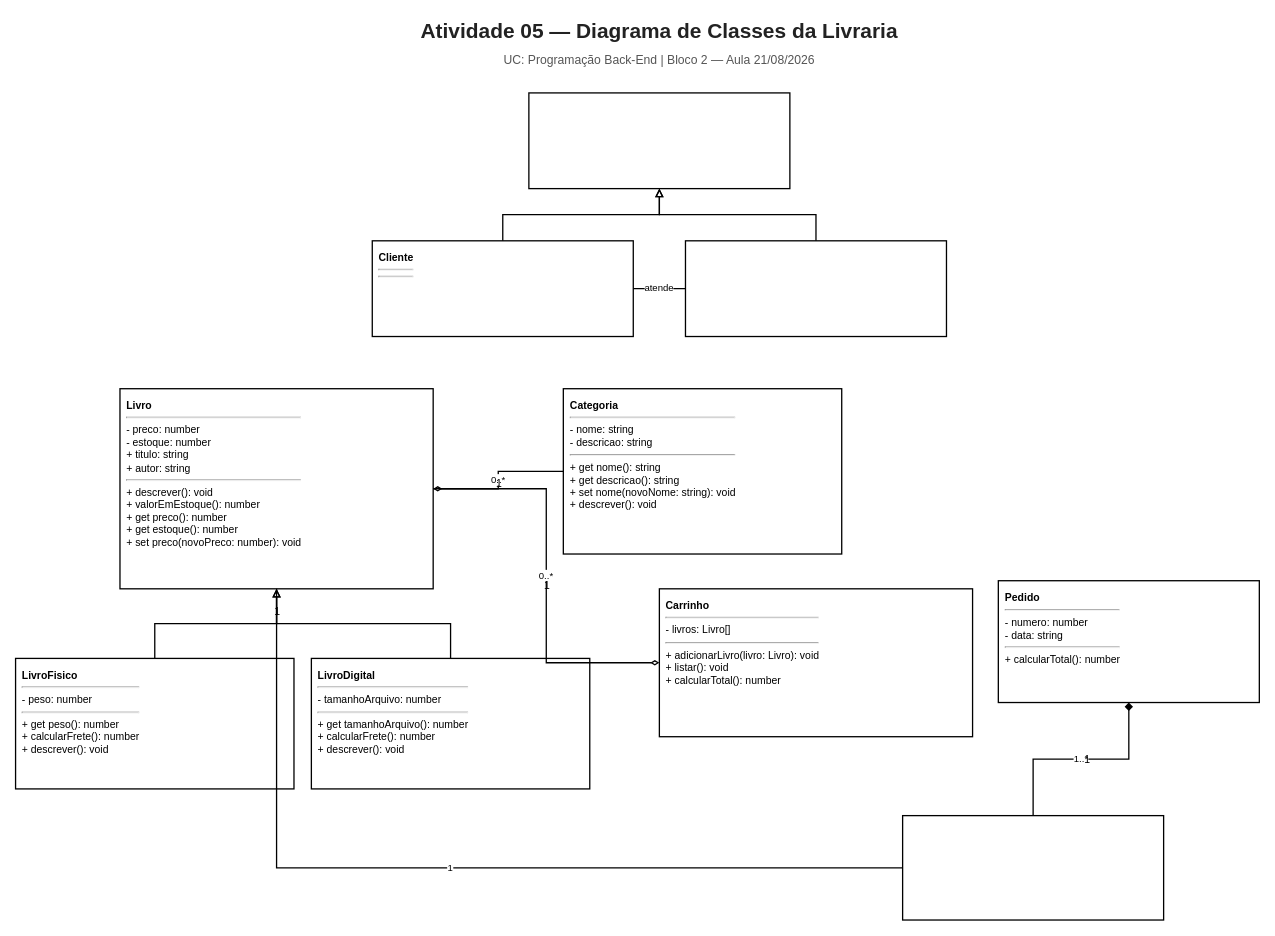
Image size: 1275x936. Some labels were removed from this diagram. The shapes that lost their labels are listed below. From the top down, each one's box as (x1, y1, x2, y2) in pixels, then its label:
(528, 92, 790, 189): Pessoa
(684, 240, 947, 337): Funcionario
(902, 815, 1164, 920): ItemPedido - quantidade: number + calcularSubtotal(): number
